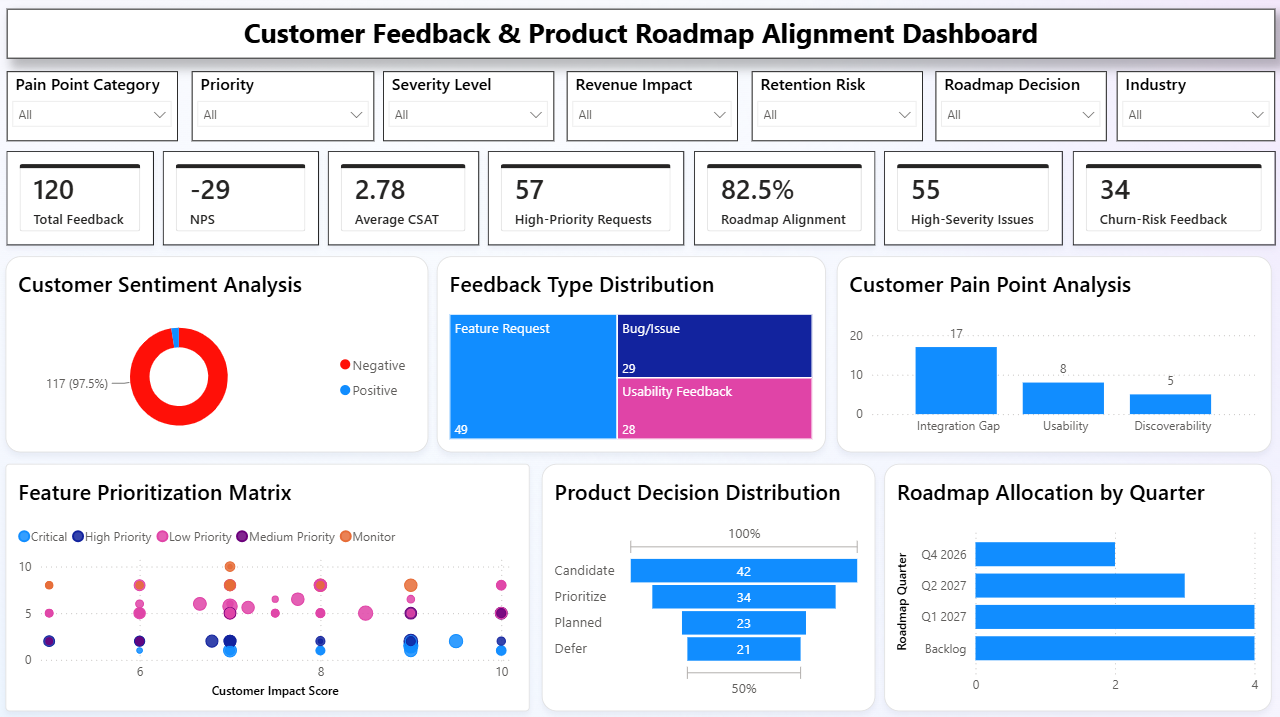

The dashboard page shown, as its layout file describes it:
{"tool":"powerbi","page":{"name":"Page 1","canvas":[1280,720],"ordinal":0},"visuals":[{"type":"cardVisual","fields":{"Data":["Feedback.Total Feedback"]},"box":[8.7,150.5,146.8,93.3],"z":0},{"type":"cardVisual","fields":{"Data":["Feedback.NPS"]},"box":[164.2,150.5,155.5,93.3],"z":1000},{"type":"cardVisual","fields":{"Data":["Feedback.Average CSAT"]},"box":[328.4,150.5,150.5,93.3],"z":2000},{"type":"cardVisual","fields":{"Data":["Feedback.High-Priority Requests"]},"box":[487.6,150.5,195.3,93.3],"z":3000},{"type":"cardVisual","fields":{"Data":["Feedback.Roadmap Alignment %"]},"box":[692.9,150.5,180.4,93.3],"z":4000},{"type":"cardVisual","fields":{"Data":["Feedback.High-Severity Issues"]},"box":[882,150.5,177.9,93.3],"z":5000},{"type":"cardVisual","fields":{"Data":["Feedback.Churn-Risk Feedback"]},"box":[1069.8,150.5,201.5,93.3],"z":6000},{"type":"textbox","box":[8.7,8.7,1262.6,49.8],"z":7000},{"type":"slicer","fields":{"Values":["Feedback.Pain Point Category"]},"box":[8.7,70.9,170,69.7],"z":8000},{"type":"slicer","fields":{"Values":["Feedback.Severity Level"]},"box":[383.1,70.9,170,69.7],"z":9000},{"type":"slicer","fields":{"Values":["Feedback.Revenue Impact"]},"box":[566,70.9,170,69.7],"z":10000},{"type":"slicer","fields":{"Values":["Feedback.Retention Risk"]},"box":[750.1,70.9,170,69.7],"z":11000},{"type":"slicer","fields":{"Values":["Feedback.Roadmap Decision"]},"box":[933,70.9,170,69.7],"z":12000},{"type":"slicer","fields":{"Values":["Feedback.Priority Category"]},"box":[192.8,70.9,181.6,69.7],"z":13000},{"type":"slicer","fields":{"Values":["Feedback.Industry"]},"box":[1113.3,70.9,158,69.7],"z":14000},{"type":"donutChart","title":"Customer Sentiment Analysis","fields":{"Category":["Feedback.Sentiment Category"],"Y":["CountNonNull(Feedback.Feedback ID)"]},"box":[7.5,255,420.5,195.3],"z":15000},{"type":"treemap","title":"Feedback Type Distribution","fields":{"Group":["Feedback.Feedback Type"],"Values":["CountNonNull(Feedback.Feedback ID)"]},"box":[436.6,255,386.9,195.3],"z":16000},{"type":"barChart","title":"Roadmap Allocation by Quarter","fields":{"Category":["Feedback.Roadmap Quarter"],"Y":["Feedback.Feature Requests"]},"box":[882,461.5,385.6,246.3],"z":17000},{"type":"columnChart","title":"Customer Pain Point Analysis","fields":{"Category":["Feedback.Pain Point Category"],"Y":["CountNonNull(Feedback.Feedback ID)"]},"box":[834.7,255,432.9,195.3],"z":18000},{"type":"funnel","title":"Product Decision Distribution","fields":{"Category":["Feedback.Roadmap Decision"],"Y":["CountNonNull(Feedback.Feature Requested)"]},"box":[541.1,461.5,332.1,246.3],"z":19000},{"type":"scatterChart","title":"Feature Prioritization Matrix","fields":{"X":["Feedback.Customer Impact Score"],"Category":["Feedback.Feature Requested"],"Size":["Avg(Feedback.Frequency of Similar Requests)"],"Y":["Avg(Feedback.Development Effort Score)"],"Series":["Feedback.Priority"]},"box":[7.5,461.5,521.2,246.3],"z":20000}]}

Visuals, with their boxes in screenshot pixels (x1, y1, x2, y2), scaled from the page's 1280x720 canvas onto the 1280x717 screenshot:
cardVisual - Feedback.Total Feedback: l=9, t=150, r=156, b=243
cardVisual - Feedback.NPS: l=164, t=150, r=320, b=243
cardVisual - Feedback.Average CSAT: l=328, t=150, r=479, b=243
cardVisual - Feedback.High-Priority Requests: l=488, t=150, r=683, b=243
cardVisual - Feedback.Roadmap Alignment %: l=693, t=150, r=873, b=243
cardVisual - Feedback.High-Severity Issues: l=882, t=150, r=1060, b=243
cardVisual - Feedback.Churn-Risk Feedback: l=1070, t=150, r=1271, b=243
textbox: l=9, t=9, r=1271, b=58
slicer - Feedback.Pain Point Category: l=9, t=71, r=179, b=140
slicer - Feedback.Severity Level: l=383, t=71, r=553, b=140
slicer - Feedback.Revenue Impact: l=566, t=71, r=736, b=140
slicer - Feedback.Retention Risk: l=750, t=71, r=920, b=140
slicer - Feedback.Roadmap Decision: l=933, t=71, r=1103, b=140
slicer - Feedback.Priority Category: l=193, t=71, r=374, b=140
slicer - Feedback.Industry: l=1113, t=71, r=1271, b=140
"Customer Sentiment Analysis" donutChart: l=8, t=254, r=428, b=448
"Feedback Type Distribution" treemap: l=437, t=254, r=824, b=448
"Roadmap Allocation by Quarter" barChart: l=882, t=460, r=1268, b=705
"Customer Pain Point Analysis" columnChart: l=835, t=254, r=1268, b=448
"Product Decision Distribution" funnel: l=541, t=460, r=873, b=705
"Feature Prioritization Matrix" scatterChart: l=8, t=460, r=529, b=705
